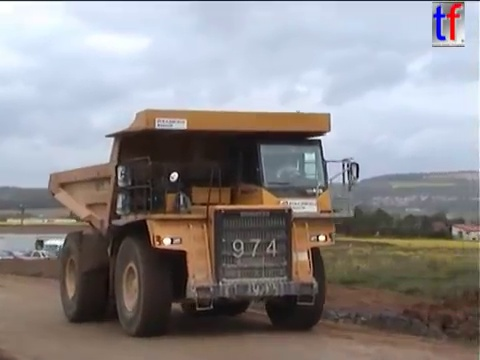truck: (45, 106, 361, 339)
